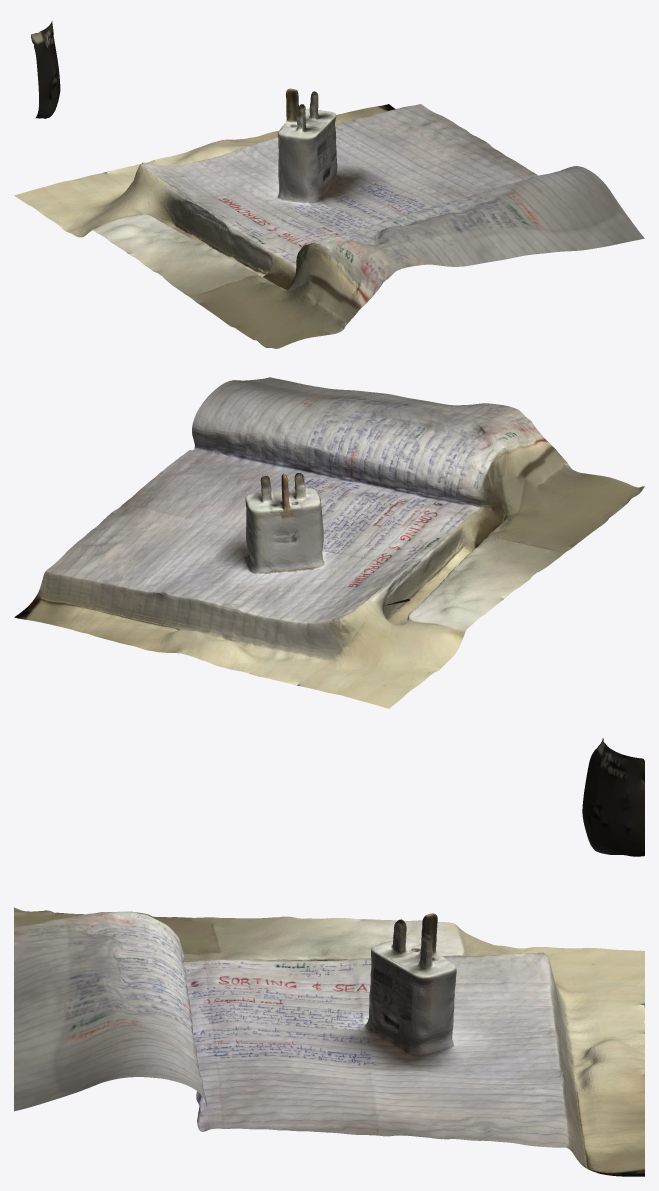
File: sample.glb
3 views of the same model, one above another, from view 1: azimuth 30°, elevation 25°; view 2: azimuth 150°, elevation 25°; view 3: azimuth 270°, elevation 25° (orthographic). The views are drawn at different scales.
Size of the model in its own units: 1.56 by 0.6941 by 1.85.
1 material, 1 textured.
